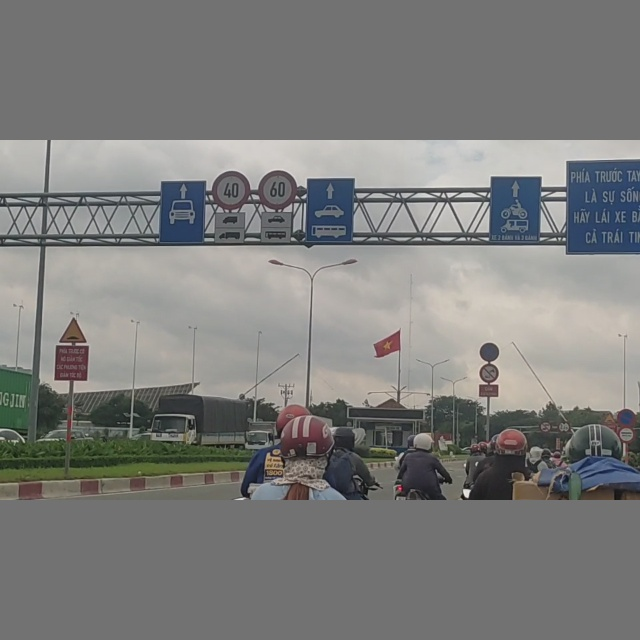P.107: (539, 421, 552, 433), (558, 421, 570, 433)
P.111: (479, 363, 500, 383)
P.127*40: (212, 170, 251, 211)
P.127*60: (259, 170, 297, 210)
P.129: (619, 427, 635, 442)
P.130: (480, 342, 499, 361)
P.131a: (617, 409, 637, 427)
W.221b: (59, 317, 87, 342), (604, 412, 617, 423)
